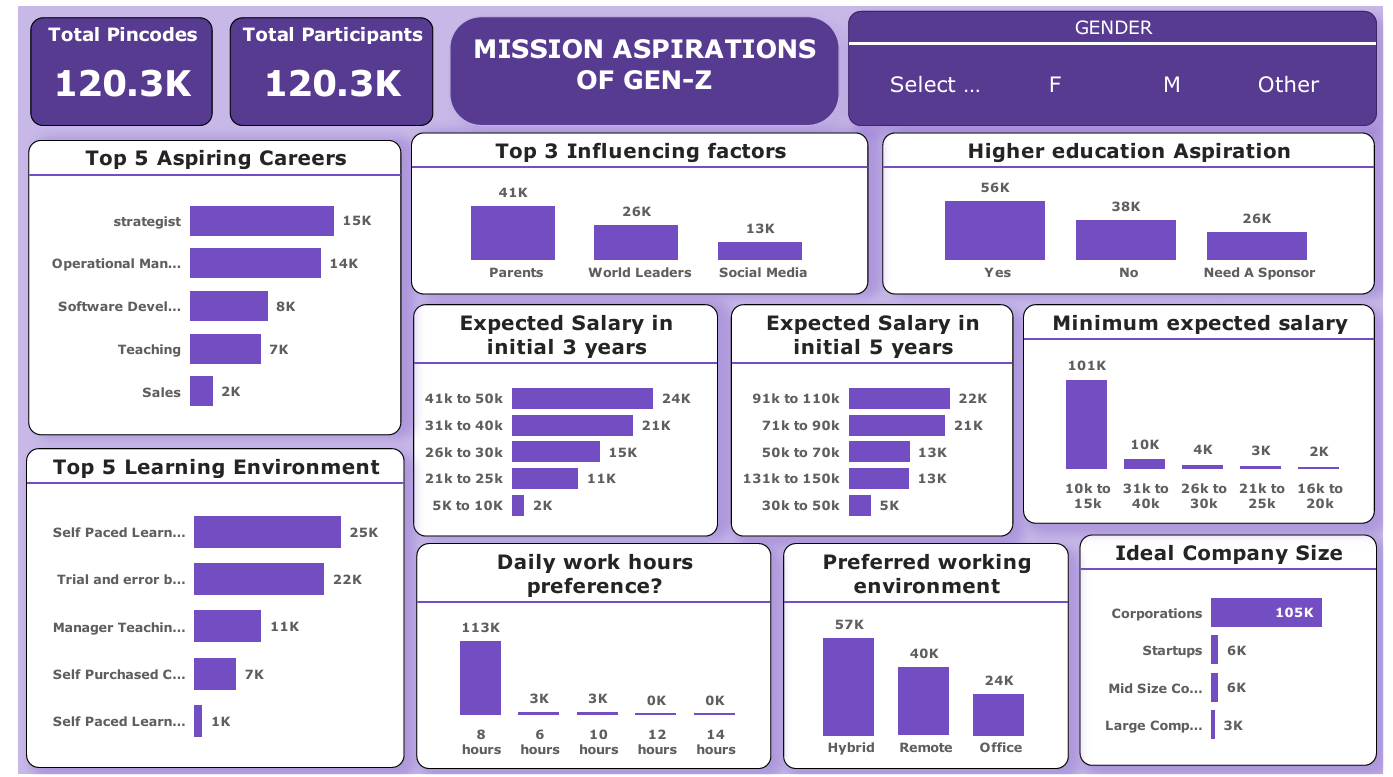

What the dashboard file says about the page in this screenshot:
{"tool":"powerbi","page":{"name":"Mission ","canvas":[1280,720],"ordinal":1},"visuals":[{"type":"card","title":"Total Participants","fields":{"Values":["Table1_3.Email address"]},"box":[198.2,10.1,191,102],"z":0},{"type":"card","title":"Total Pincodes","fields":{"Values":["Table1_3.Pin Code"]},"box":[11.5,10.1,170.9,102],"z":1000},{"type":"textbox","box":[403.5,8.6,366.2,103.4],"z":2000},{"type":"slicer","title":"GENDER","fields":{"Values":["Table1_3. Gender"]},"box":[778.3,4.3,495.4,107.7],"z":3000},{"type":"barChart","title":"Expected Salary in initial 3 years","fields":{"Category":["Table1_3.Expected initial 3 years salary range."],"Y":["Table1_3.Expected initial 3 years salary range."]},"box":[370.5,278.6,285.8,218.3],"z":4000},{"type":"barChart","title":"Expected Salary in initial 5 years","fields":{"Category":["Table1_3.Expected salary in five years."],"Y":["Table1_3.Expected salary in five years."]},"box":[667.7,278.6,265.6,218.3],"z":5000},{"type":"barChart","title":"Top 5 Learning Environment ","fields":{"Category":["Table1_3.Learning Environment "],"Y":["Table1_3.Learning Environment "]},"box":[7.2,413.6,354.7,300.1],"z":6000},{"type":"columnChart","title":"Higher education Aspiration","fields":{"Category":["Table1_3.Higher education Aspiration"],"Y":["Table1_3.Higher education Aspiration"]},"box":[809.9,117.7,462.4,152.2],"z":7000},{"type":"barChart","title":"Ideal Company Size","fields":{"Category":["Table1_3.Ideal company to join."],"Y":["Table1_3.Ideal company to join."]},"box":[995.1,495.4,278.6,216.8],"z":8000},{"type":"barChart","title":"Top 5 Aspiring Careers ","fields":{"Category":["Table1_3. Aspiring Careers "],"Y":["Table1_3. Aspiring Careers "]},"box":[8.6,124.9,350.4,277.1],"z":9000},{"type":"columnChart","title":"Top 3 Influencing factors","fields":{"Category":["Table1_3.Influencing factors "],"Y":["Table1_3.Influencing factors "]},"box":[367.6,117.7,429.3,152.2],"z":10000},{"type":"columnChart","title":"Preferred working environment","fields":{"Category":["Table1_3.Preferred working environment"],"Y":["Table1_3.Preferred working environment"]},"box":[716.5,502.6,268.5,212.5],"z":11000},{"type":"lineClusteredColumnComboChart","title":"Minimum expected salary","fields":{"Category":["Table1_3.Minimum expected salary."],"Y":["Table1_3.Minimum expected salary."]},"box":[942,278.6,330.3,206.8],"z":12000},{"type":"columnChart","title":"Daily work hours preference?","fields":{"Category":["Table1_3.Daily work hours preference?"],"Y":["Table1_3.Daily work hours preference?"]},"box":[373.3,502.6,333.1,212.5],"z":13000}]}

Visuals, with their boxes in screenshot pixels (x1, y1, x2, y2), scaled from the page's 1280x720 canvas onto the 1393x777 screenshot:
"Total Participants" card: bbox=[216, 11, 424, 121]
"Total Pincodes" card: bbox=[13, 11, 199, 121]
textbox: bbox=[439, 9, 838, 121]
"GENDER" slicer: bbox=[847, 5, 1386, 121]
"Expected Salary in initial 3 years" barChart: bbox=[403, 301, 714, 536]
"Expected Salary in initial 5 years" barChart: bbox=[727, 301, 1016, 536]
"Top 5 Learning Environment " barChart: bbox=[8, 446, 394, 770]
"Higher education Aspiration" columnChart: bbox=[881, 127, 1385, 291]
"Ideal Company Size" barChart: bbox=[1083, 535, 1386, 769]
"Top 5 Aspiring Careers " barChart: bbox=[9, 135, 391, 434]
"Top 3 Influencing factors" columnChart: bbox=[400, 127, 867, 291]
"Preferred working environment" columnChart: bbox=[780, 542, 1072, 772]
"Minimum expected salary" lineClusteredColumnComboChart: bbox=[1025, 301, 1385, 524]
"Daily work hours preference?" columnChart: bbox=[406, 542, 769, 772]
